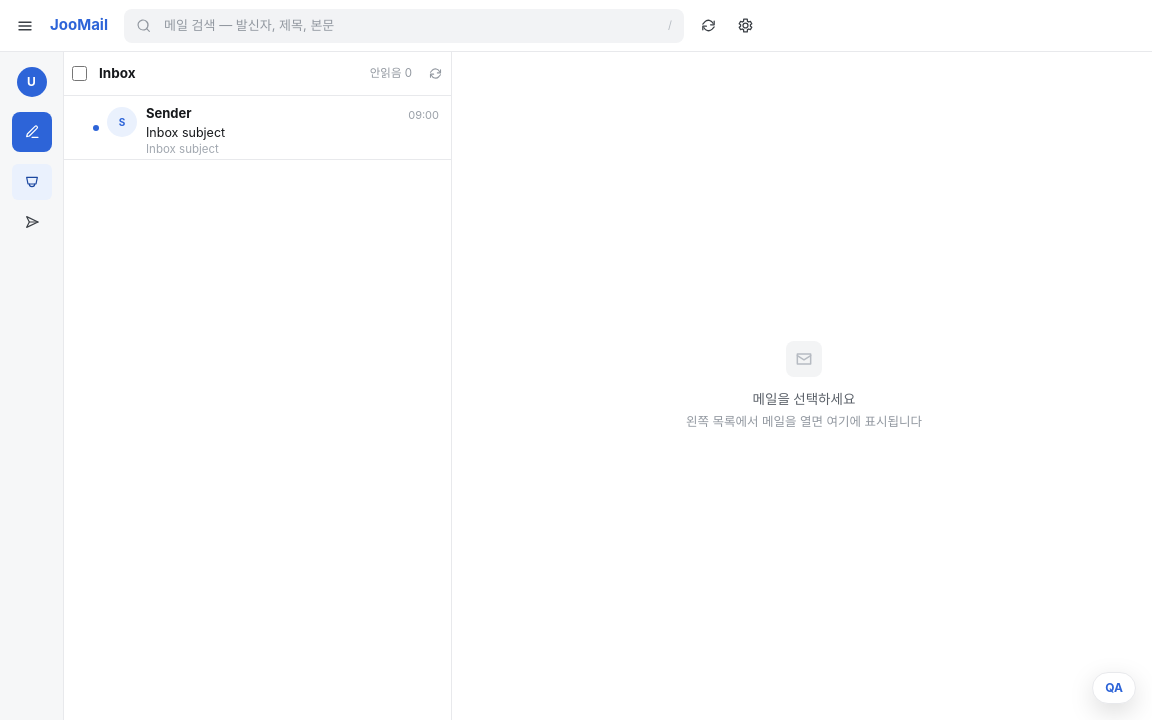
AppShell live mail behavior › marks an unread row seen only after its detail opens
Click the button "S Sender 09:00 Inbox subject Inbox subject" at (169, 113), box [64,96,451,160]
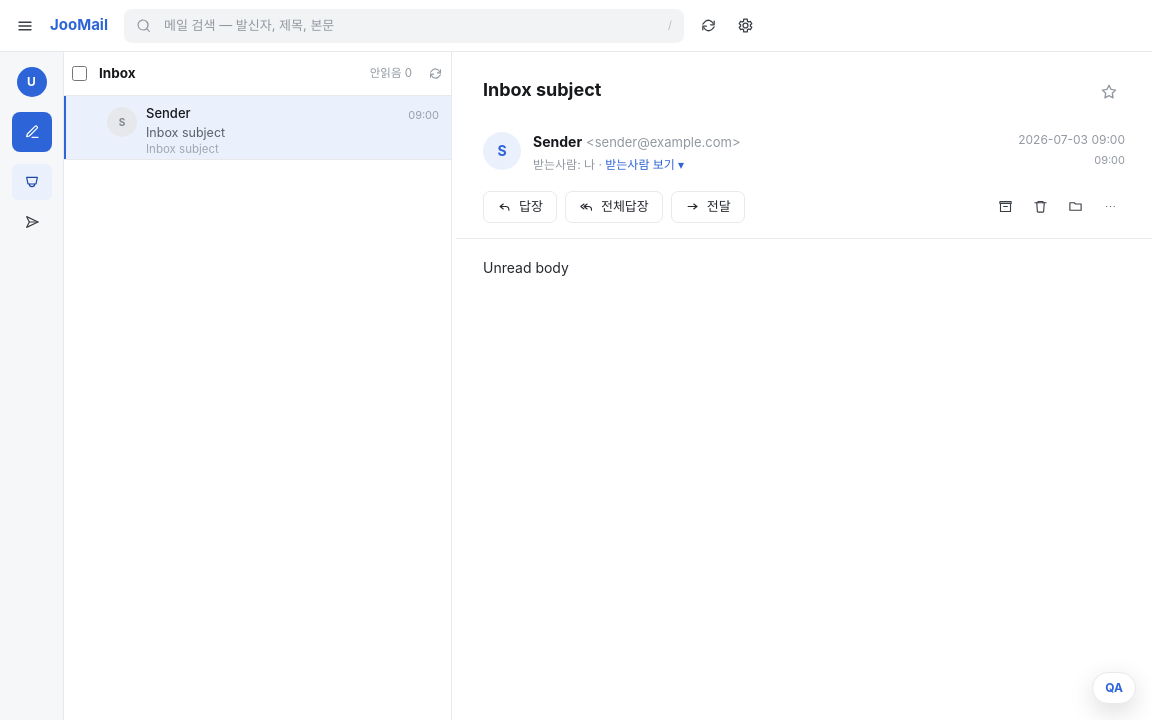
Expected: the text "Unread body" is shown, [483,258,569,276]
